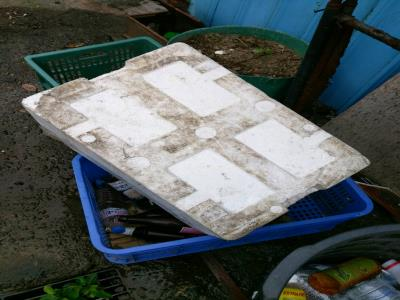bottle: (306, 253, 384, 294), (115, 205, 205, 236), (93, 181, 131, 238)
styrofoam: (20, 43, 365, 239)
